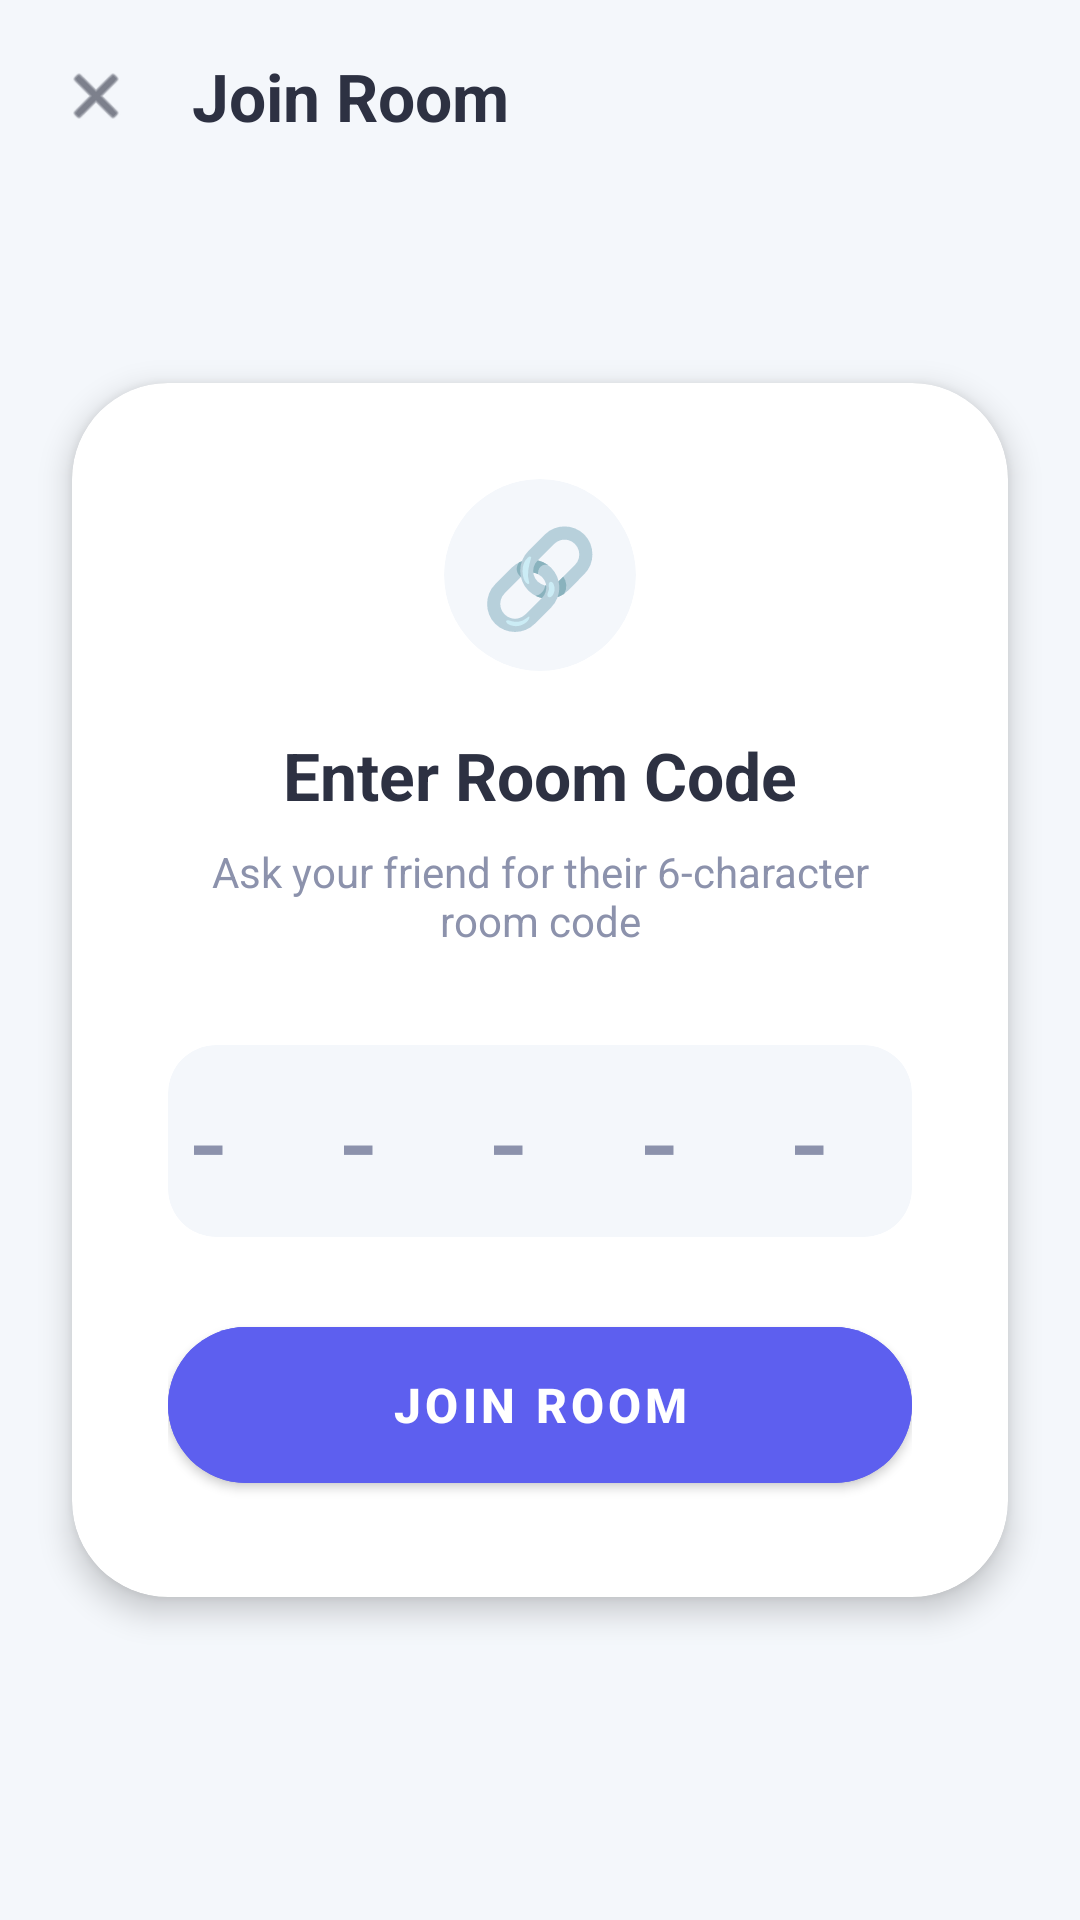

Icon click points for this 1080 × 1920 phone screenshot, format point (x, y):
close clear cancel: point (96, 96)
